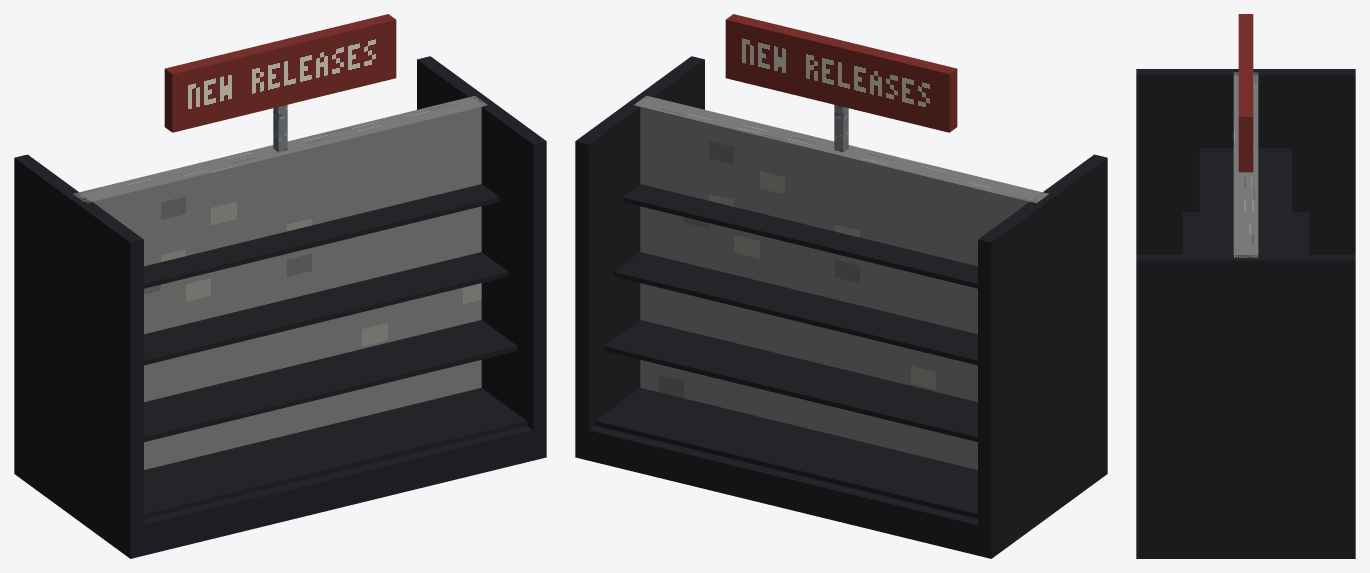
File: COM_GameRack_Empty_New.glb
3 views of the same model, side by side, from view 1: azimuth 30°, elevation 25°; view 2: azimuth 150°, elevation 25°; view 3: azimuth 270°, elevation 25° (orthographic). The views are drawn at different scales.
Parts seen in each view (by area): view 1: COM_GameRack_Empty_New_Mesh; view 2: COM_GameRack_Empty_New_Mesh; view 3: COM_GameRack_Empty_New_Mesh.
Boxes of the visible parts, x1,y1,x2,y2 form: COM_GameRack_Empty_New_Mesh: (14, 14, 546, 558); COM_GameRack_Empty_New_Mesh: (575, 14, 1107, 558); COM_GameRack_Empty_New_Mesh: (1136, 14, 1355, 558).
Size of what is drawn, in the model's own units: 1.86 by 1.8 by 0.9.
Materials: 1 (1 with a texture image).
